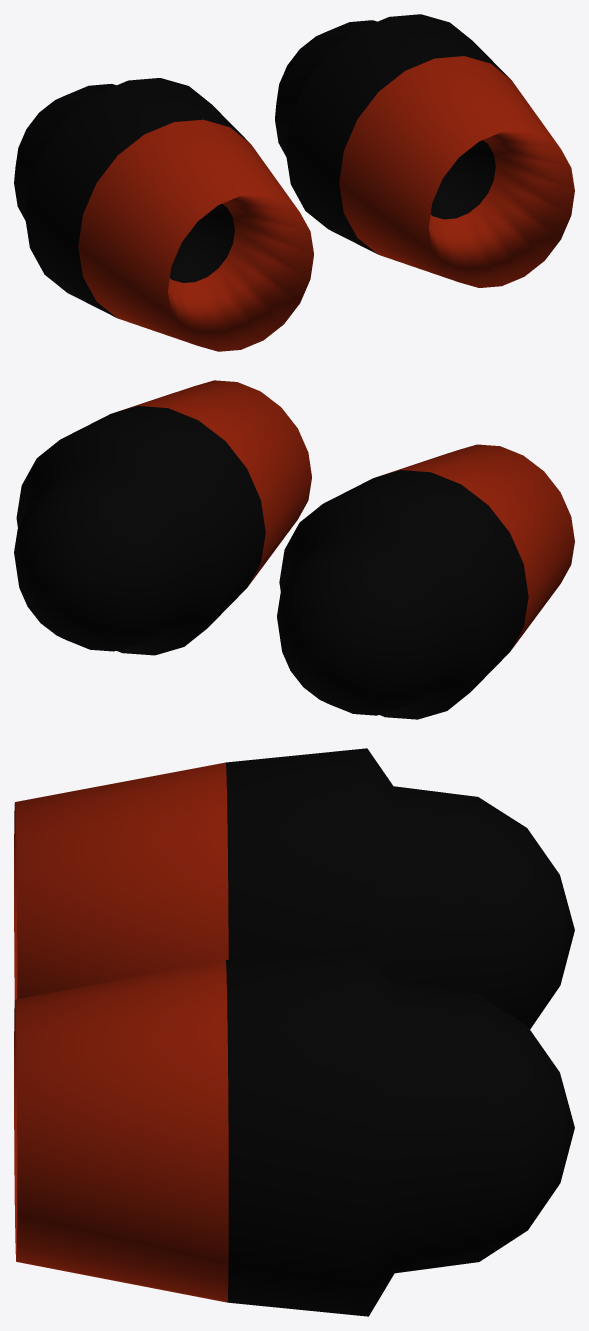
Rendered from Horde Engine 1.fbx.
3 renders of one model, top to bottom at view 1: azimuth 30°, elevation 25°; view 2: azimuth 150°, elevation 25°; view 3: azimuth 270°, elevation 25°, orthographic. The views are drawn at different scales.
Parts seen in each view (by area): view 1: pCylinder25; view 2: pCylinder25; view 3: pCylinder25.
Part boxes in pixels (bbox=[...]): pCylinder25: bbox=[14, 14, 574, 351]; pCylinder25: bbox=[14, 380, 574, 719]; pCylinder25: bbox=[14, 748, 574, 1316].
Bounding box in the file's own units: 9.56 × 4.25 × 6.38.
